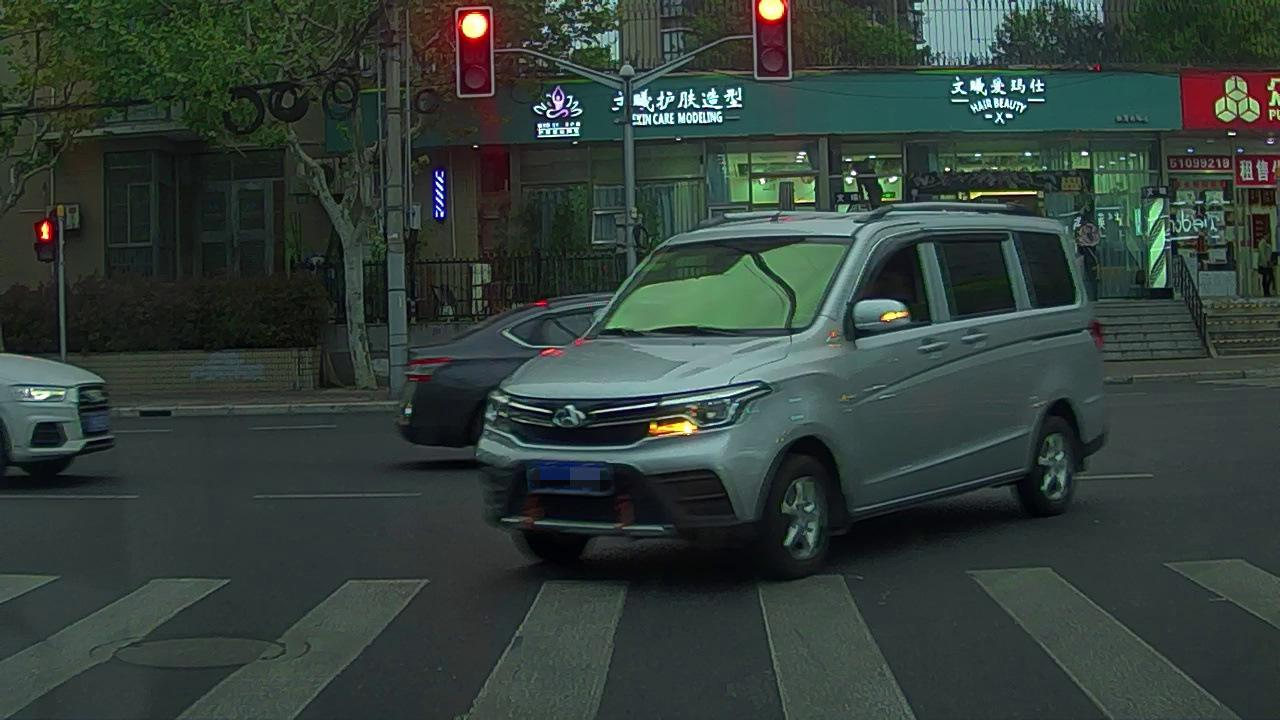traffic_light: (456, 8, 499, 97), (753, 3, 792, 80)
